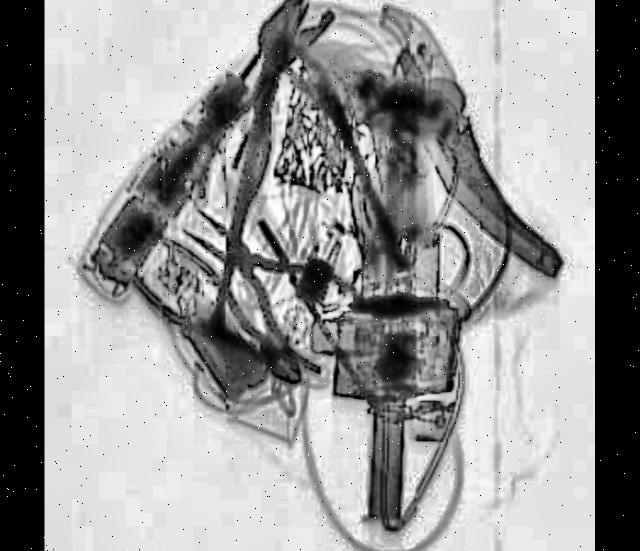Pliers: (164, 167, 362, 378), (125, 220, 316, 411), (190, 18, 307, 223)
